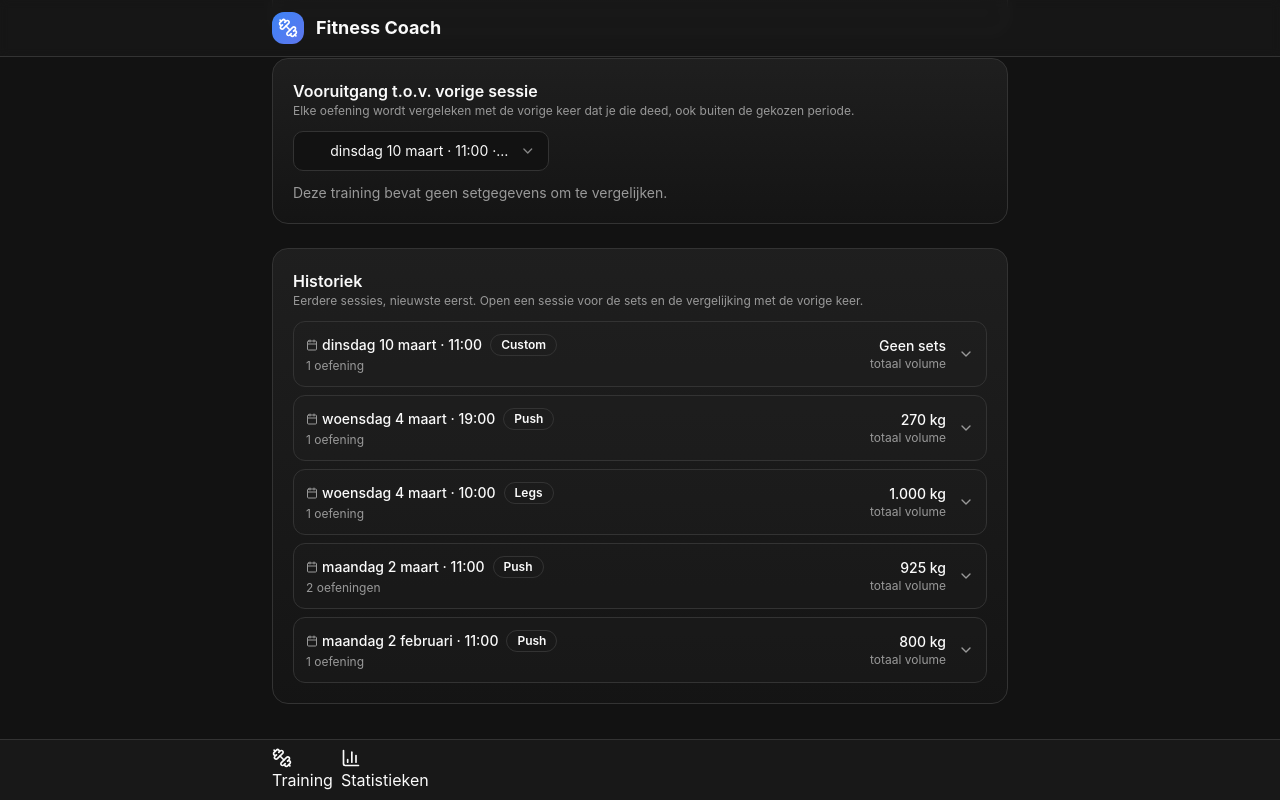
Test: vooruitgang t.o.v. vorige sessie en historiek › historiek: sessie uitklappen toont sets en vergelijking
(page scrolled)
Click the 2nd button at [409, 418], box 294,396 -> 986,460
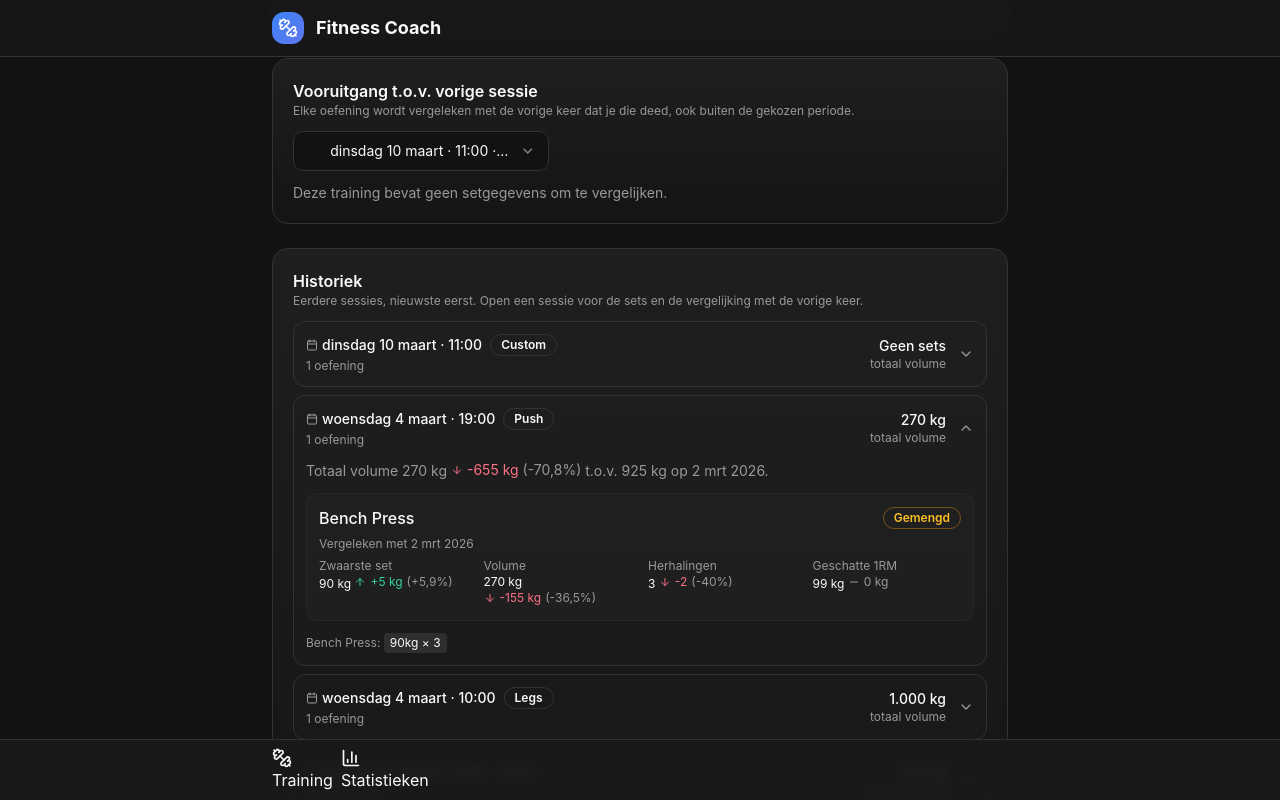
Now the text "90kg × 3" is shown, box 384,632 -> 447,652
Now the text "Gemengd" is shown, box 883,506 -> 961,528
